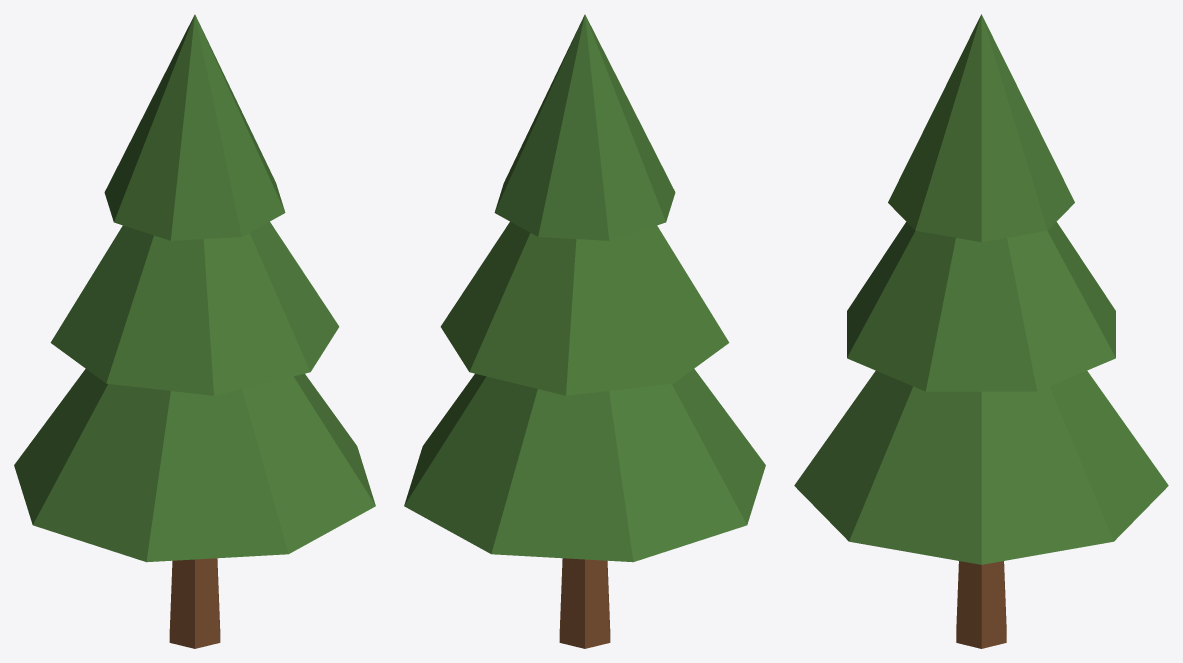
The model's file is pine.glb.
The picture shows the model from 3 angles, left to right: view 1: azimuth 30°, elevation 25°; view 2: azimuth 150°, elevation 25°; view 3: azimuth 270°, elevation 25°; orthographic projection.
Visible parts, largest first — view 1: pine; view 2: pine; view 3: pine.
Boxes of the visible parts, x1,y1,x2,y2 form: pine: [14, 14, 375, 648]; pine: [404, 14, 765, 648]; pine: [794, 14, 1168, 648].
Bounding box in the file's own units: 1.8 × 3.3 × 1.8.
